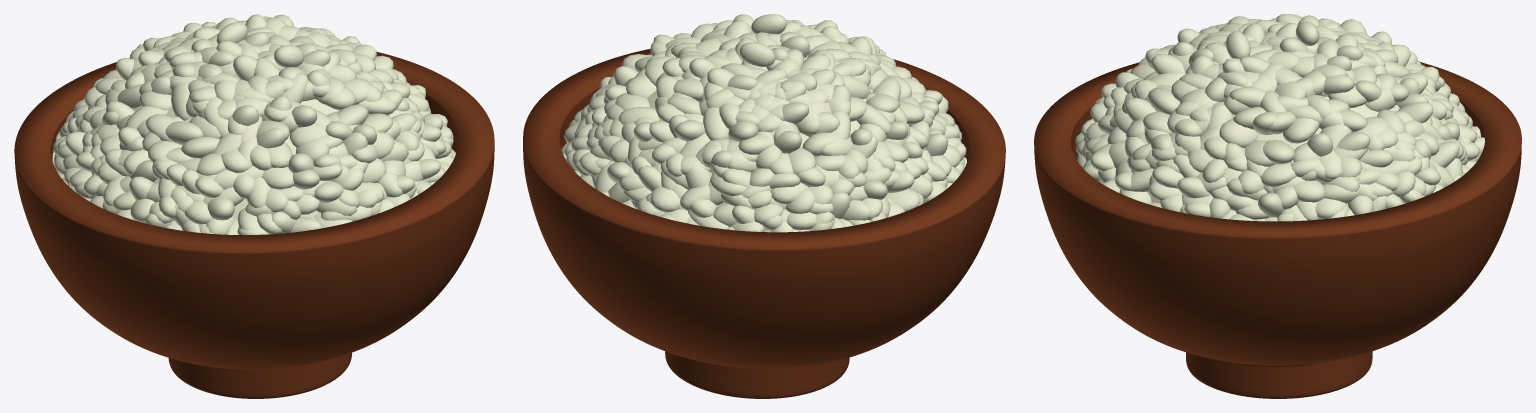
File: Arroz.fbx
3 views of the same model, side by side, from view 1: azimuth 30°, elevation 25°; view 2: azimuth 150°, elevation 25°; view 3: azimuth 270°, elevation 25° (orthographic).
Visible parts, largest first — view 1: Sphere, Cube.005, Cube.005|Cube.006|Dupli|2, Cube.005|Cube.006|Dupli|33, Cube.005|Cube.006|Dupli|667, Cube.008, Cube.005|Cube.006|Dupli|35, Cube.005|Cube.006|Dupli|23, Cube.005|Cube.006|Dupli|144, Cube.005|Cube.006|Dupli|643, Cube.005|Cube.006|Dupli|155, Cube.007 (+26 smaller); view 2: Sphere, Cube.007, Cube.005|Cube.006|Dupli|67, Cube.005|Cube.006|Dupli|804, Cube.008, Cube.005|Cube.006|Dupli|835, Cube.005|Cube.006|Dupli|19, Cube.005|Cube.006|Dupli|58, Cube.005|Cube.006|Dupli|98, Cube.005|Cube.006|Dupli|979, Cube.005|Cube.006|Dupli|61, Cube.005|Cube.006|Dupli|879 (+19 smaller); view 3: Sphere, Cube.005|Cube.006|Dupli|97, Cube.005, Cube.005|Cube.006|Dupli|95, Cube.005|Cube.006|Dupli|728, Cube.005|Cube.006|Dupli|742, Cube.005|Cube.006|Dupli|144, Cube.005|Cube.006|Dupli|745, Cube.008, Cube.005|Cube.006|Dupli|117, Cube.005|Cube.006|Dupli|140, Cube.005|Cube.006|Dupli|753 (+23 smaller).
Boxes of the visible parts, left/top/right/bottom form: Sphere: left=14, top=51, right=494, bottom=398; Cube.005: left=133, top=77, right=339, bottom=219; Cube.005|Cube.006|Dupli|2: left=165, top=121, right=203, bottom=144; Cube.005|Cube.006|Dupli|33: left=181, top=136, right=219, bottom=158; Cube.005|Cube.006|Dupli|667: left=262, top=166, right=294, bottom=189; Cube.008: left=274, top=45, right=303, bottom=67; Cube.005|Cube.006|Dupli|35: left=171, top=83, right=190, bottom=120; Cube.005|Cube.006|Dupli|23: left=146, top=114, right=182, bottom=145; Cube.005|Cube.006|Dupli|144: left=337, top=104, right=368, bottom=125; Cube.005|Cube.006|Dupli|643: left=207, top=197, right=234, bottom=220; Cube.005|Cube.006|Dupli|155: left=290, top=124, right=325, bottom=147; Cube.007: left=216, top=22, right=247, bottom=44; Sphere: left=523, top=49, right=1005, bottom=398; Cube.007: left=740, top=42, right=775, bottom=67; Cube.005|Cube.006|Dupli|67: left=703, top=107, right=729, bottom=140; Cube.005|Cube.006|Dupli|804: left=650, top=186, right=680, bottom=212; Cube.008: left=751, top=14, right=786, bottom=33; Cube.005|Cube.006|Dupli|835: left=788, top=147, right=816, bottom=175; Cube.005|Cube.006|Dupli|19: left=802, top=132, right=837, bottom=156; Cube.005|Cube.006|Dupli|58: left=674, top=119, right=705, bottom=141; Cube.005|Cube.006|Dupli|98: left=626, top=75, right=656, bottom=98; Cube.005|Cube.006|Dupli|979: left=886, top=188, right=920, bottom=211; Cube.005|Cube.006|Dupli|61: left=738, top=134, right=774, bottom=154; Cube.005|Cube.006|Dupli|879: left=786, top=188, right=815, bottom=213; Sphere: left=1034, top=62, right=1521, bottom=398; Cube.005|Cube.006|Dupli|97: left=1219, top=118, right=1258, bottom=147; Cube.005: left=1147, top=72, right=1399, bottom=203; Cube.005|Cube.006|Dupli|95: left=1283, top=118, right=1319, bottom=143; Cube.005|Cube.006|Dupli|728: left=1260, top=163, right=1296, bottom=186; Cube.005|Cube.006|Dupli|742: left=1262, top=140, right=1295, bottom=164; Cube.005|Cube.006|Dupli|144: left=1148, top=87, right=1180, bottom=114; Cube.005|Cube.006|Dupli|745: left=1293, top=180, right=1324, bottom=202; Cube.008: left=1226, top=31, right=1250, bottom=58; Cube.005|Cube.006|Dupli|117: left=1229, top=86, right=1265, bottom=107; Cube.005|Cube.006|Dupli|140: left=1151, top=53, right=1184, bottom=74; Cube.005|Cube.006|Dupli|753: left=1177, top=177, right=1210, bottom=198.
Size of the model in its own units: 101 by 77.26 by 101.
